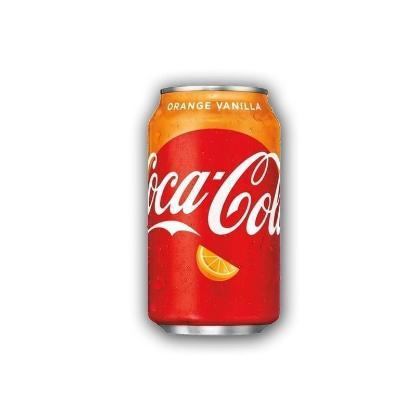Can: (145, 82, 282, 336)
